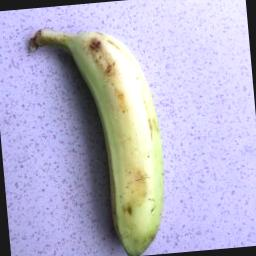Banana Ripe: (26, 3, 186, 256)
